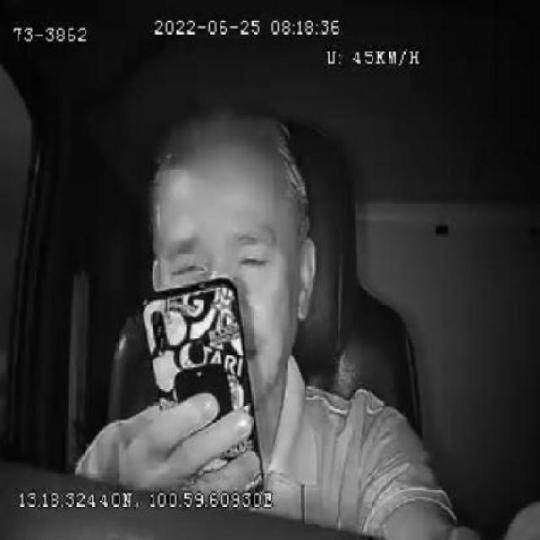phone: (142, 278, 266, 492)
